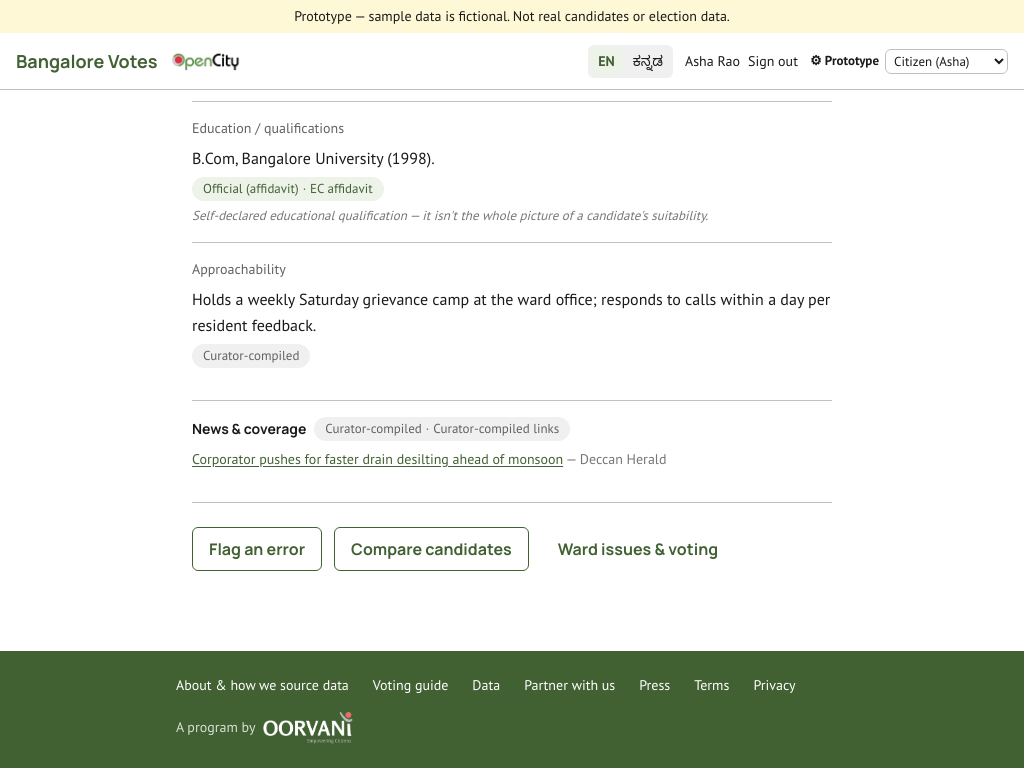
Scenario: clicking Flag an error opens the flag modal for a logged-in citizen
(page scrolled)
Click the button "Flag an error" at x=257, y=549, box [192,527,322,571]
(page scrolled)
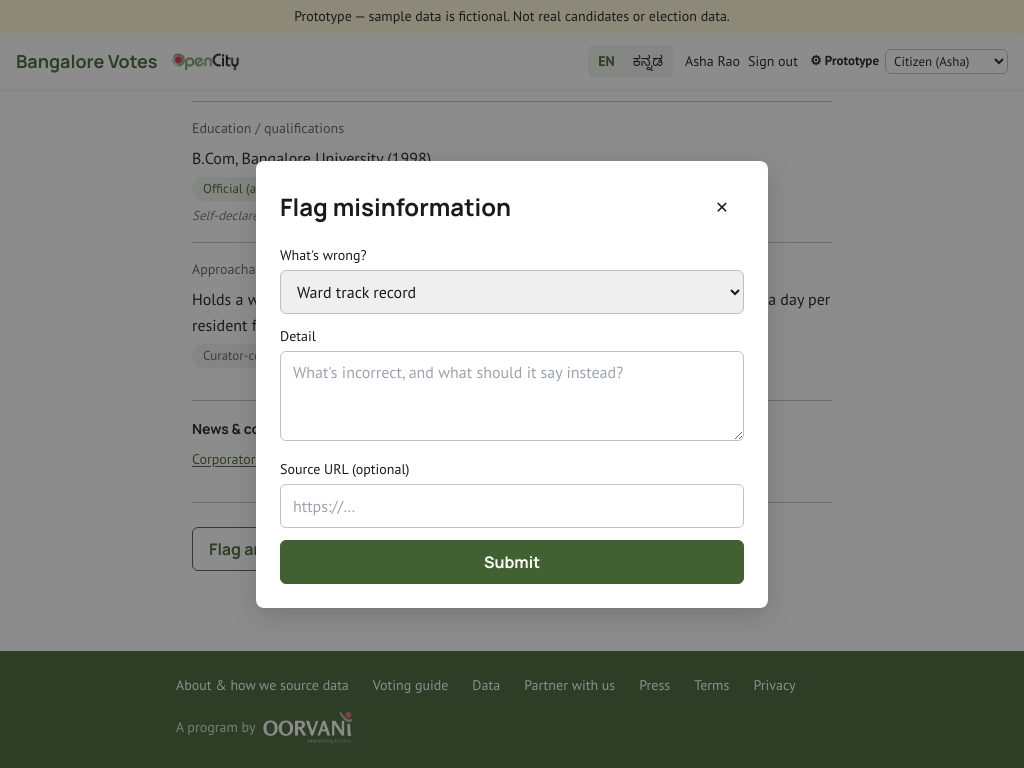
Expected: the dialog "Flag misinformation" is shown, [256,160,768,608]
